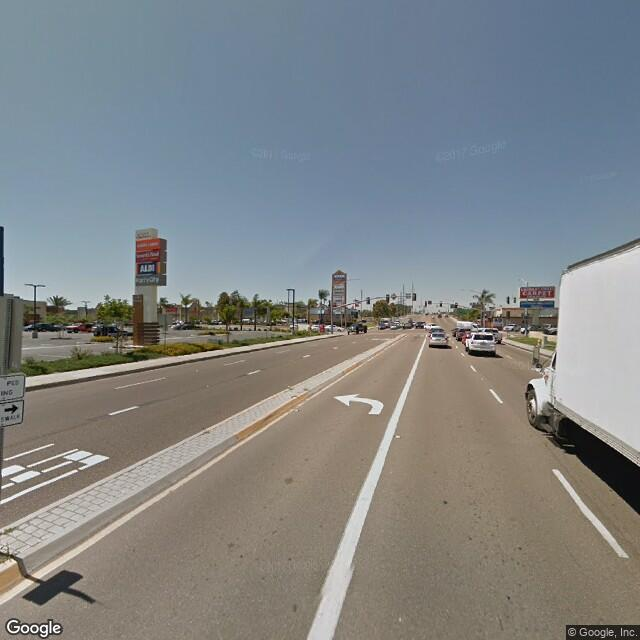litter: (283, 403, 299, 416)
